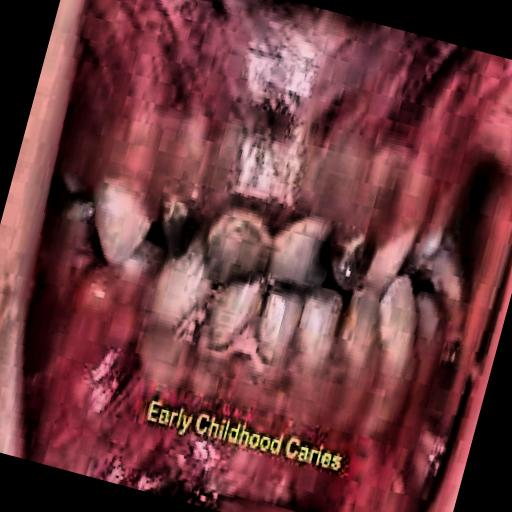Caries: (112, 174, 480, 355)
